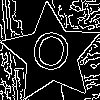O: (26, 29, 74, 82)
